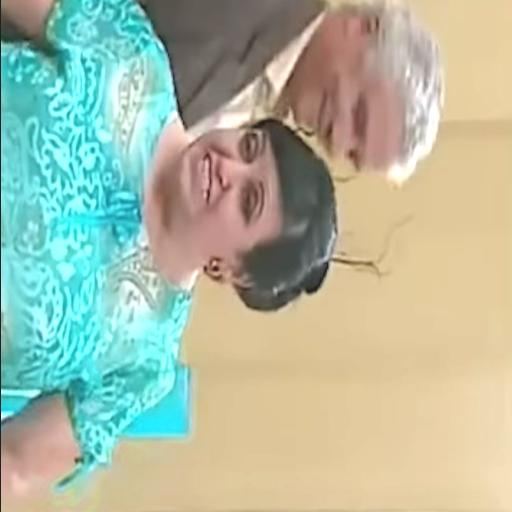jannet: (162, 129, 335, 290)
